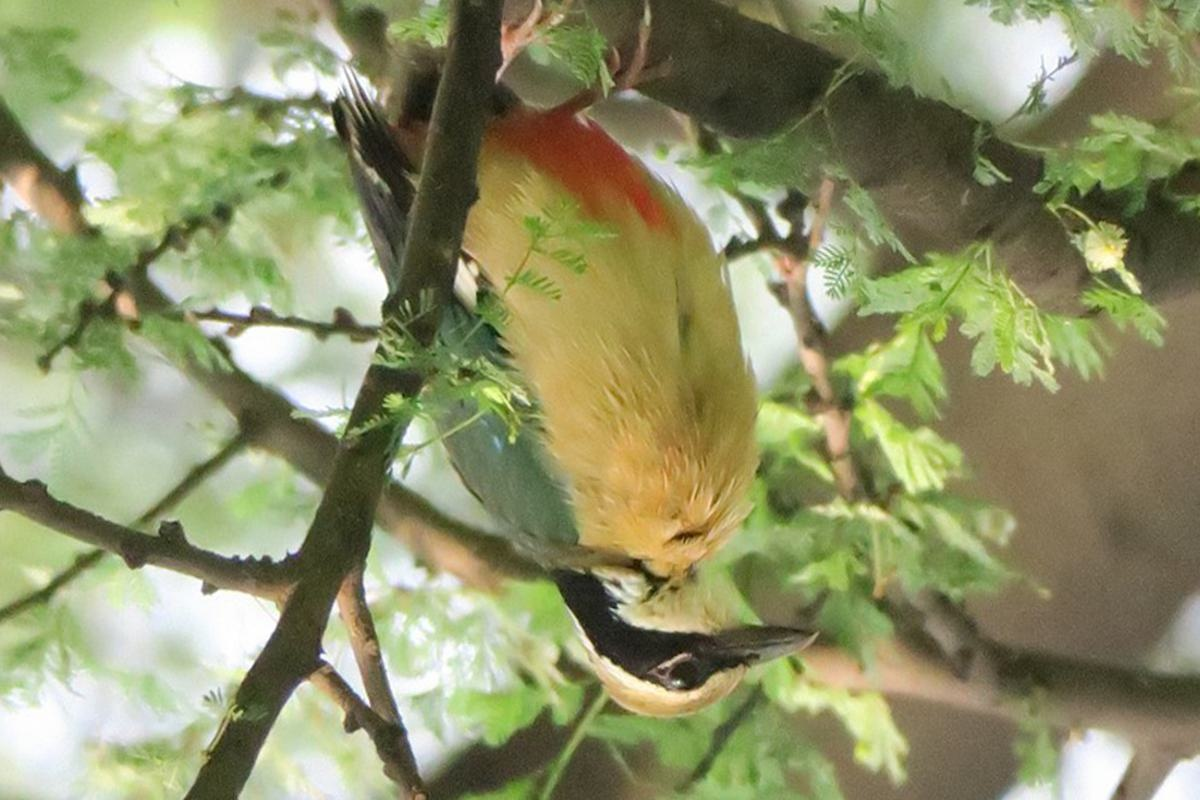pitta: (373, 44, 837, 703)
